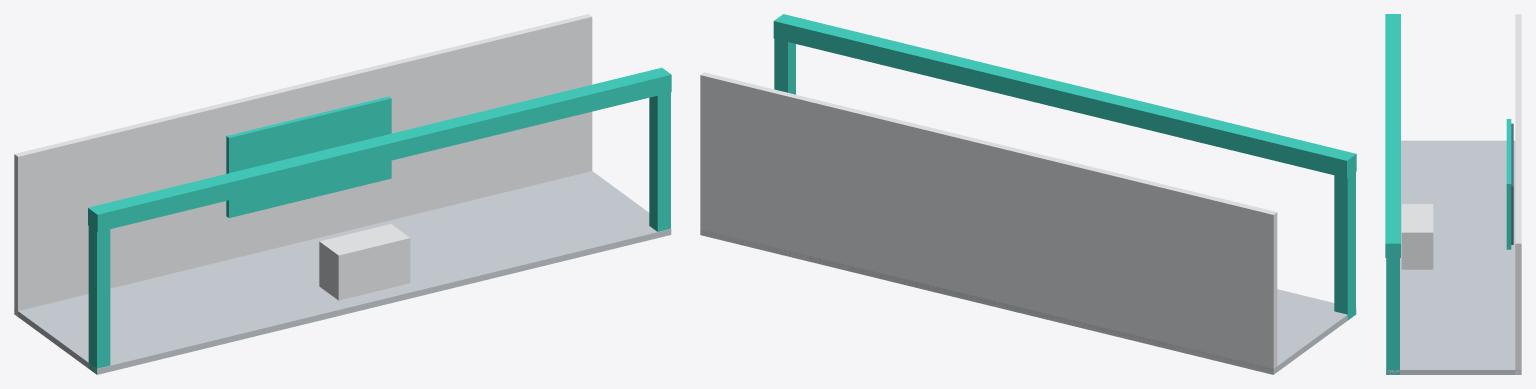
3 views of the same model, side by side, from view 1: azimuth 30°, elevation 25°; view 2: azimuth 150°, elevation 25°; view 3: azimuth 270°, elevation 25° (orthographic). The views are drawn at different scales.
Parts seen in each view (by area): view 1: Exhibition Booth Concept; view 2: Exhibition Booth Concept; view 3: Exhibition Booth Concept.
Boxes of the visible parts, x1,y1,x2,y2 form: Exhibition Booth Concept: (14, 14, 671, 374); Exhibition Booth Concept: (700, 14, 1356, 374); Exhibition Booth Concept: (1385, 14, 1521, 374).
Size of the model in its own units: 12 by 3.2 by 3.01.
